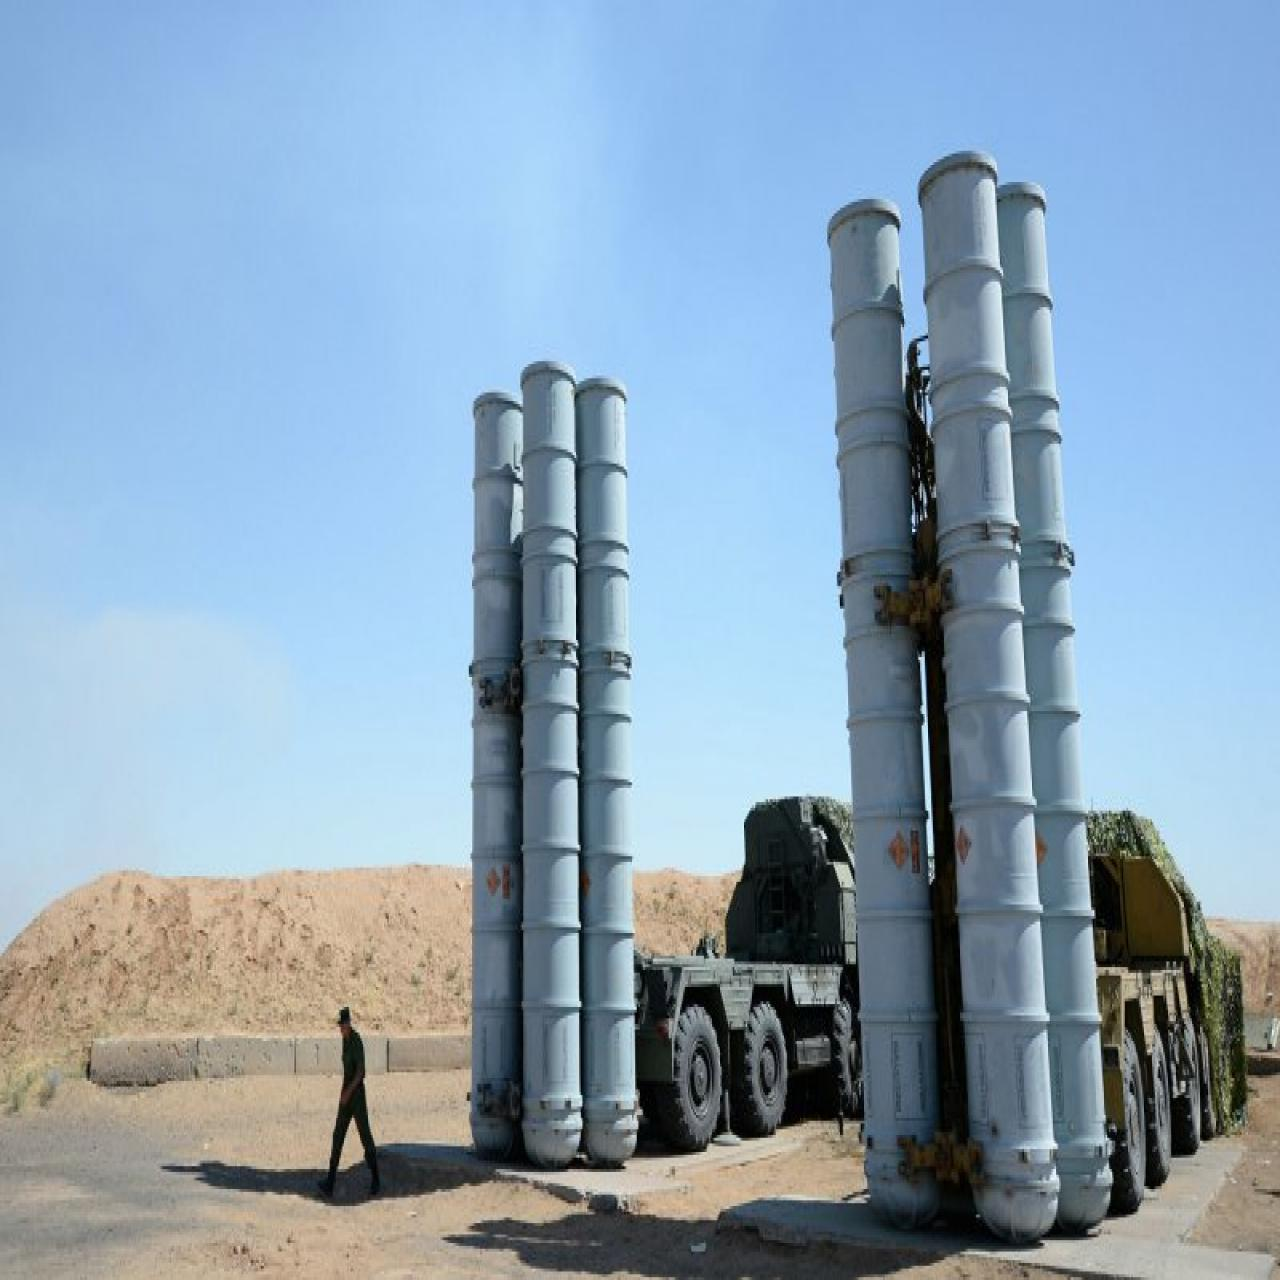MIL_Veh: (827, 149, 1245, 1234), (470, 361, 858, 1175)
